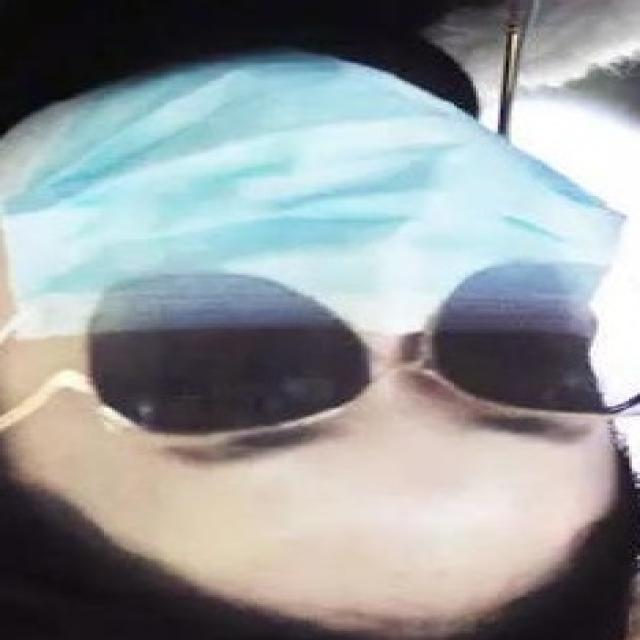Mask: (21, 44, 622, 352)
